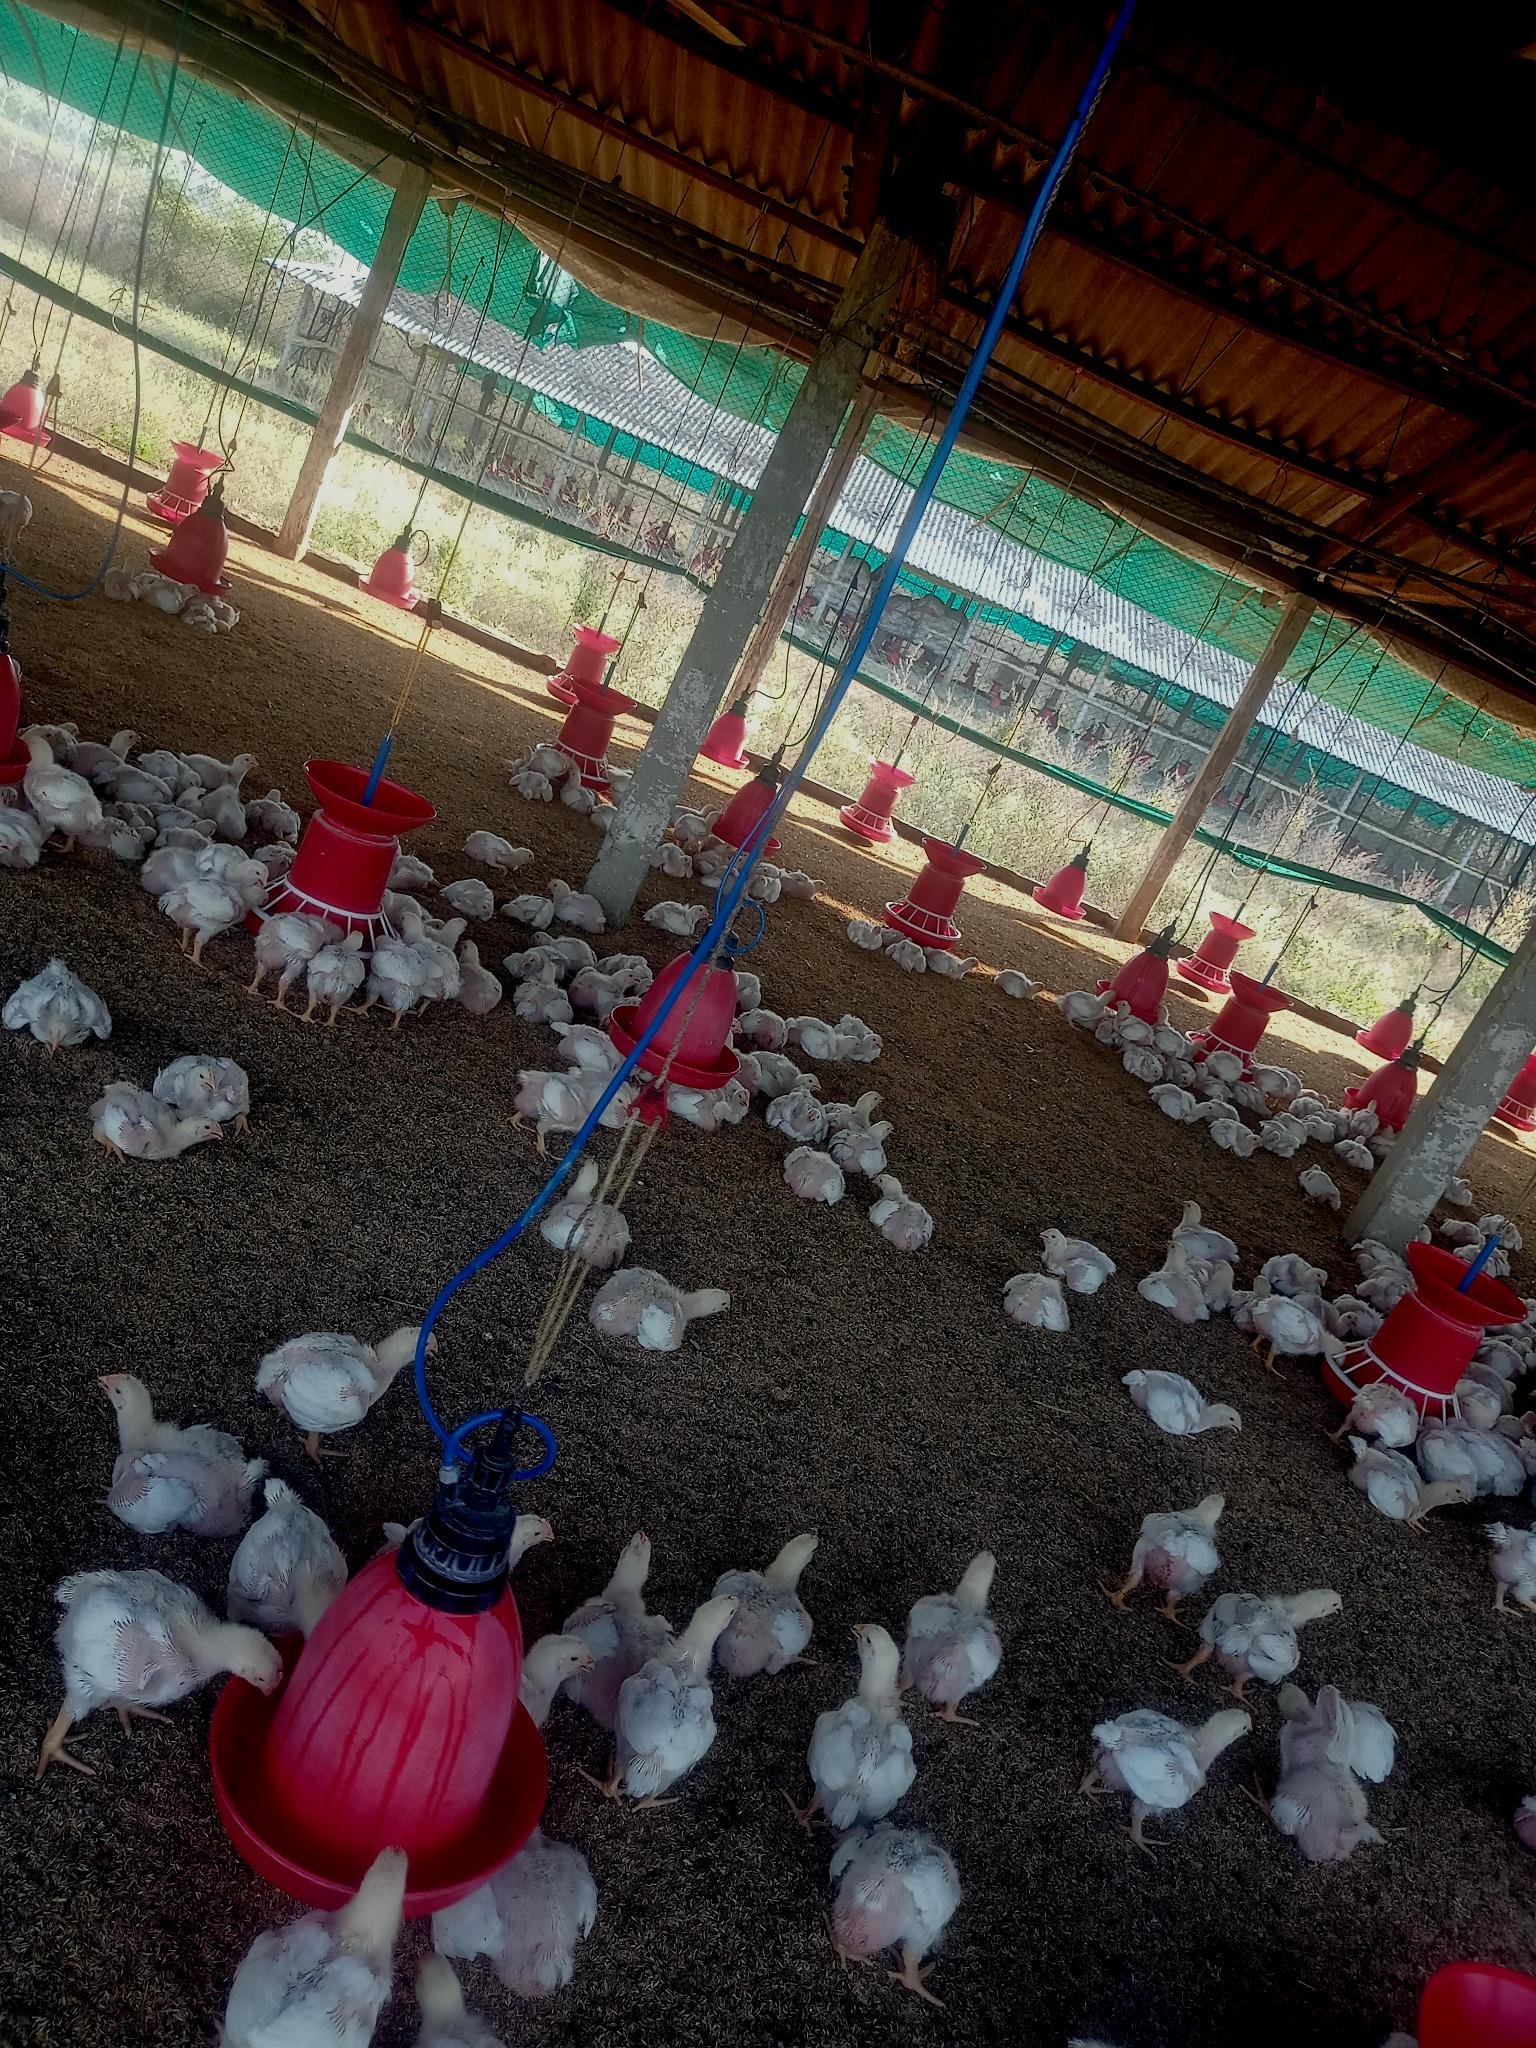Pollos: (224, 1843, 431, 2048), (48, 1559, 281, 1713), (616, 1582, 753, 1796), (89, 1366, 257, 1537), (828, 1809, 992, 1983), (1273, 1679, 1392, 1879), (812, 1614, 925, 1801), (253, 1321, 449, 1414), (913, 1545, 1025, 1705), (1091, 1701, 1255, 1806), (1204, 1582, 1355, 1679), (1128, 1484, 1238, 1600), (95, 1098, 227, 1185), (10, 951, 119, 1051), (594, 1272, 745, 1343), (1350, 1435, 1462, 1530), (19, 726, 105, 848), (1121, 1363, 1249, 1438), (757, 1526, 821, 1658), (155, 877, 271, 947), (1249, 1301, 1347, 1367), (873, 1169, 939, 1258), (1037, 1221, 1117, 1293), (310, 922, 366, 1019), (173, 1050, 261, 1109), (1004, 1264, 1071, 1335), (1175, 1198, 1241, 1271), (553, 879, 616, 940), (834, 1114, 899, 1172), (774, 1069, 828, 1135), (187, 747, 261, 793), (468, 826, 537, 872), (652, 893, 718, 940), (1302, 1159, 1344, 1209)
